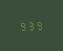nine: (18, 20, 25, 31), (35, 19, 42, 30)
three: (27, 20, 34, 30)
